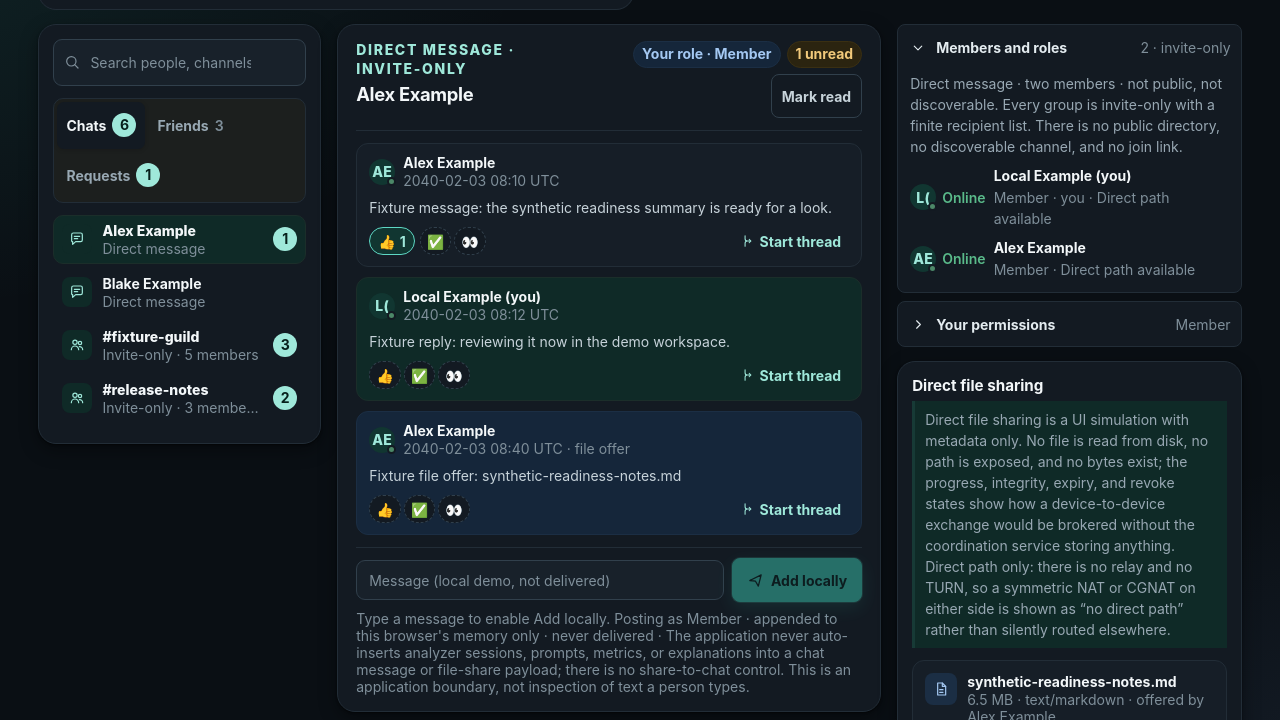
Test: SocialHubPage › blocks posting and file offers when the role lacks permission, with the reason as visible text
Later steps or results of the test are not shown.
(page scrolled)
Click the button "#release-notes Invite-only · 3 members · muted 2".
click(180, 398)  # box [53,374,306,423]
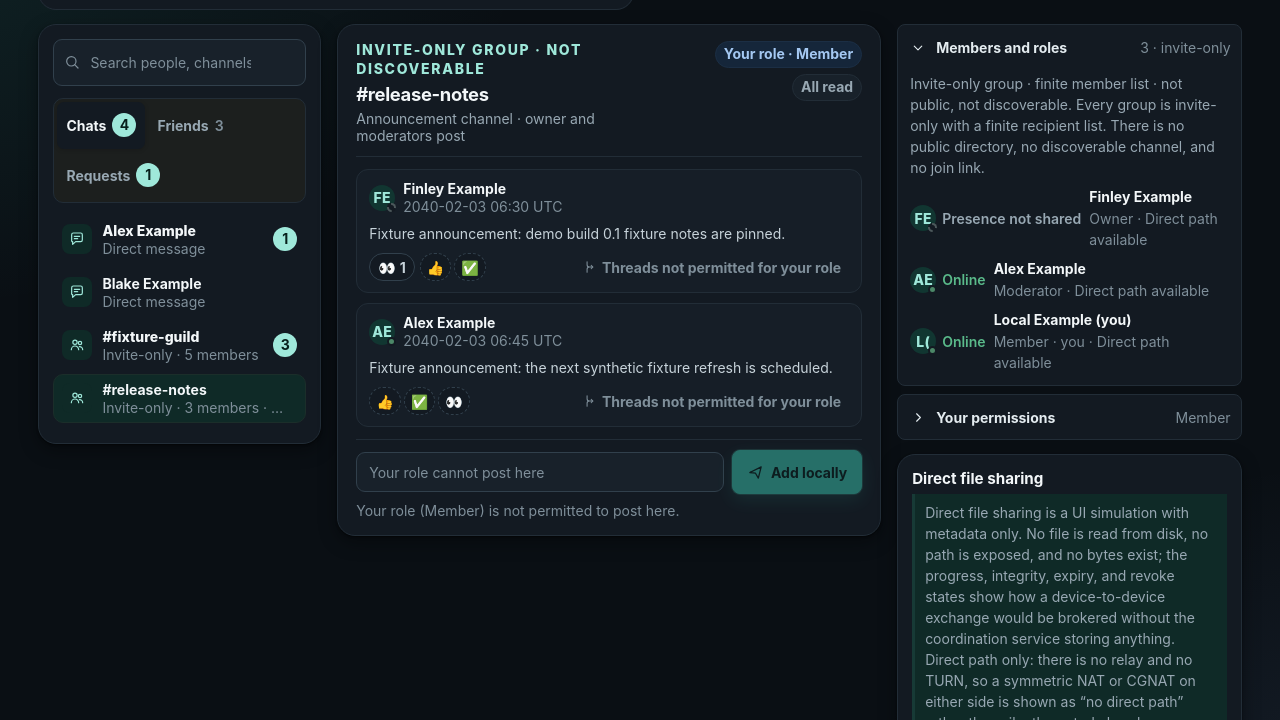
Now the field with placeholder "Your role cannot post here" is disabled, box [356,452,724,492]
Now the text "Your role (Member) is not permitted to post here." is shown, box [356,502,680,519]
